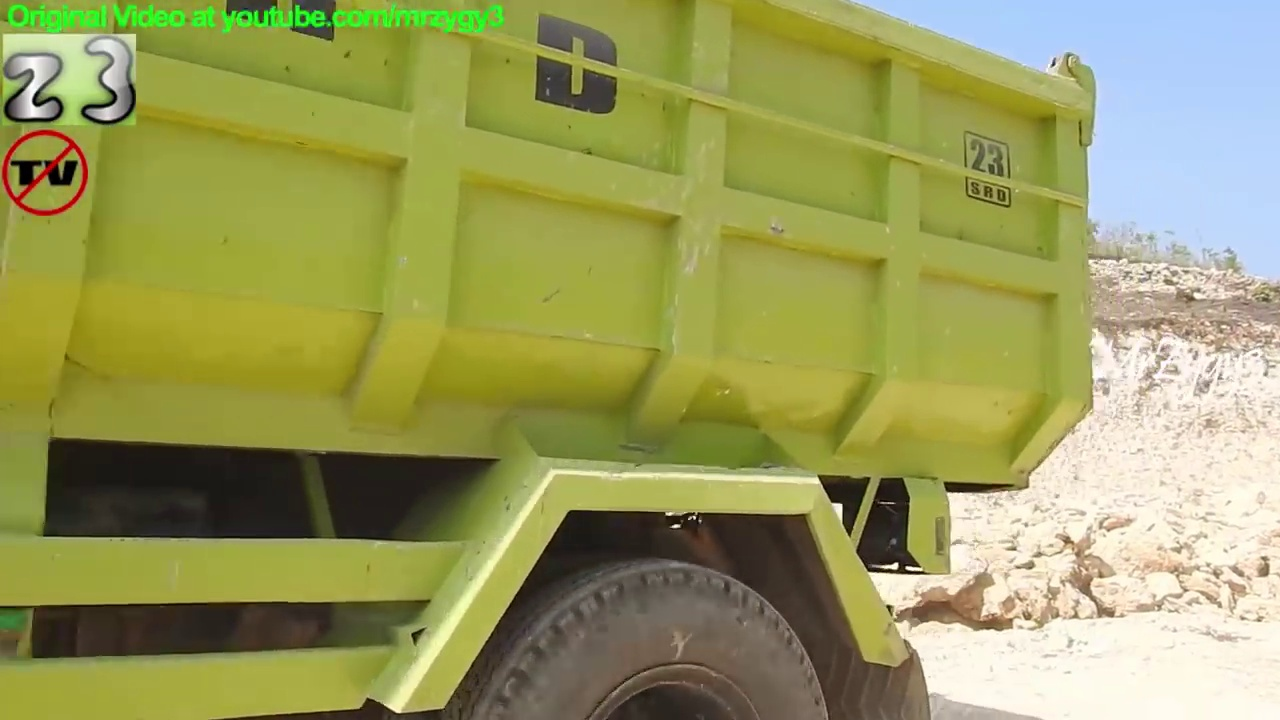truck: (1, 1, 1100, 720)
